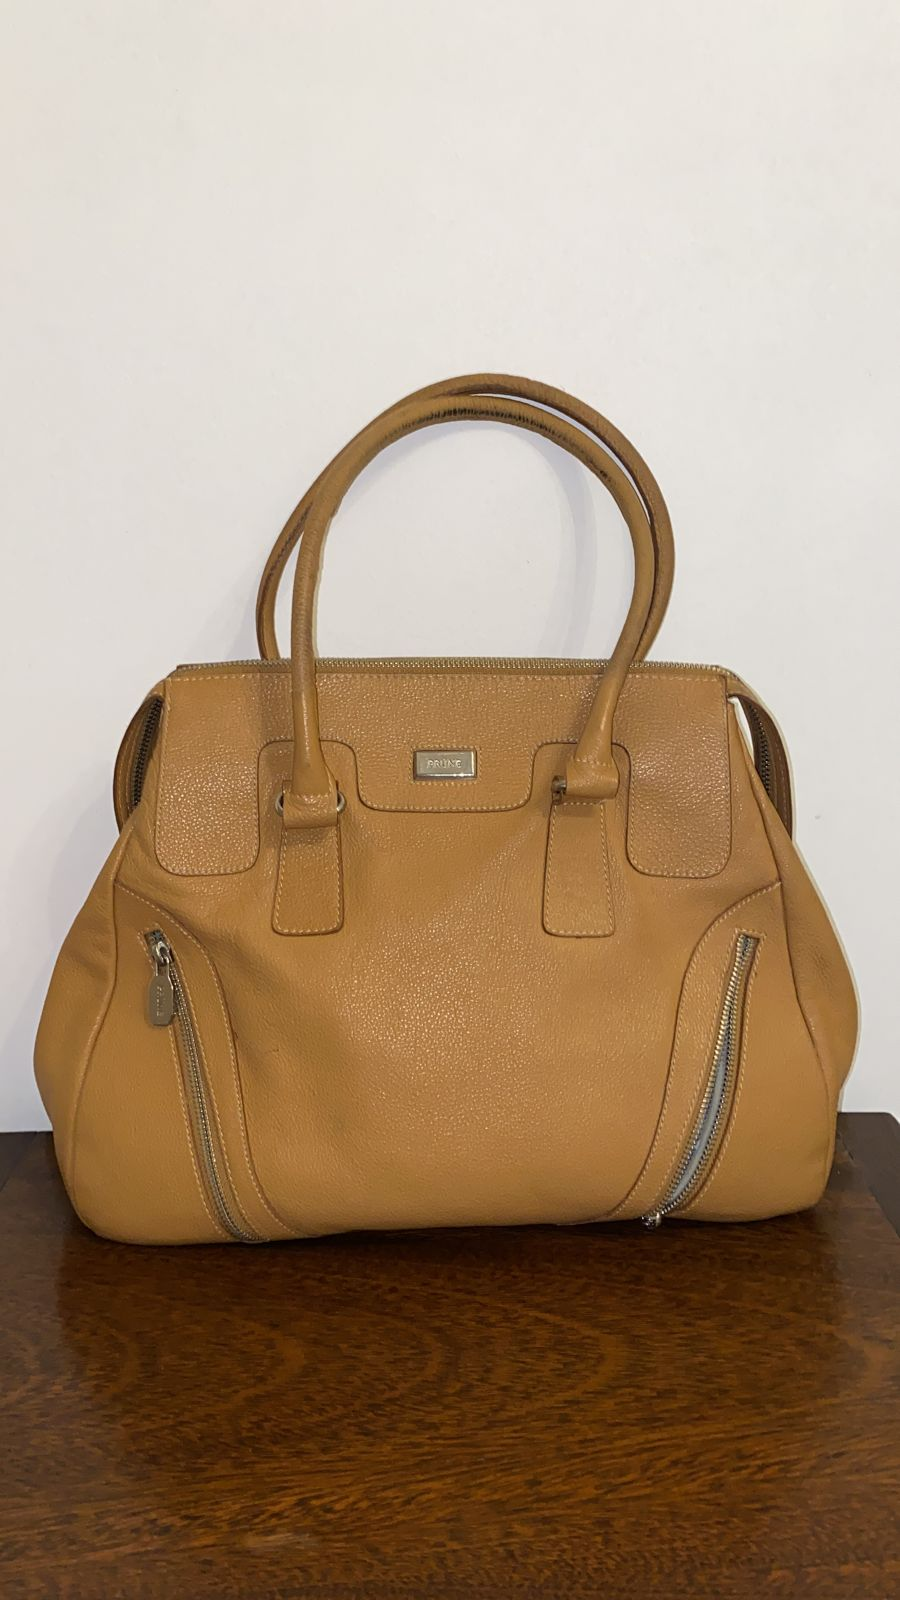cartera: (30, 333, 865, 1252)
cuero: (242, 959, 640, 1191)
